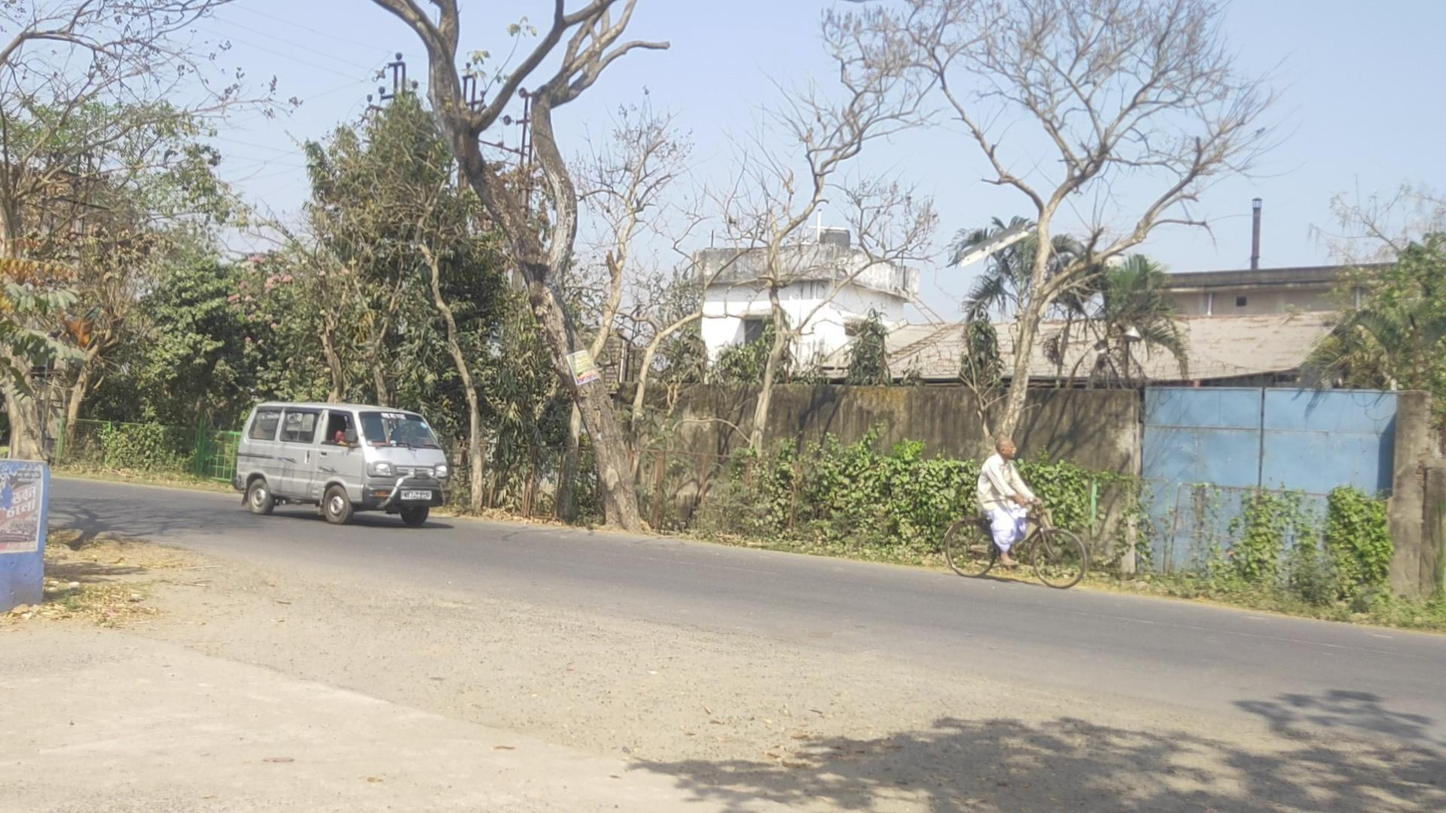bike: (944, 437, 1087, 589)
van: (231, 401, 450, 527)
